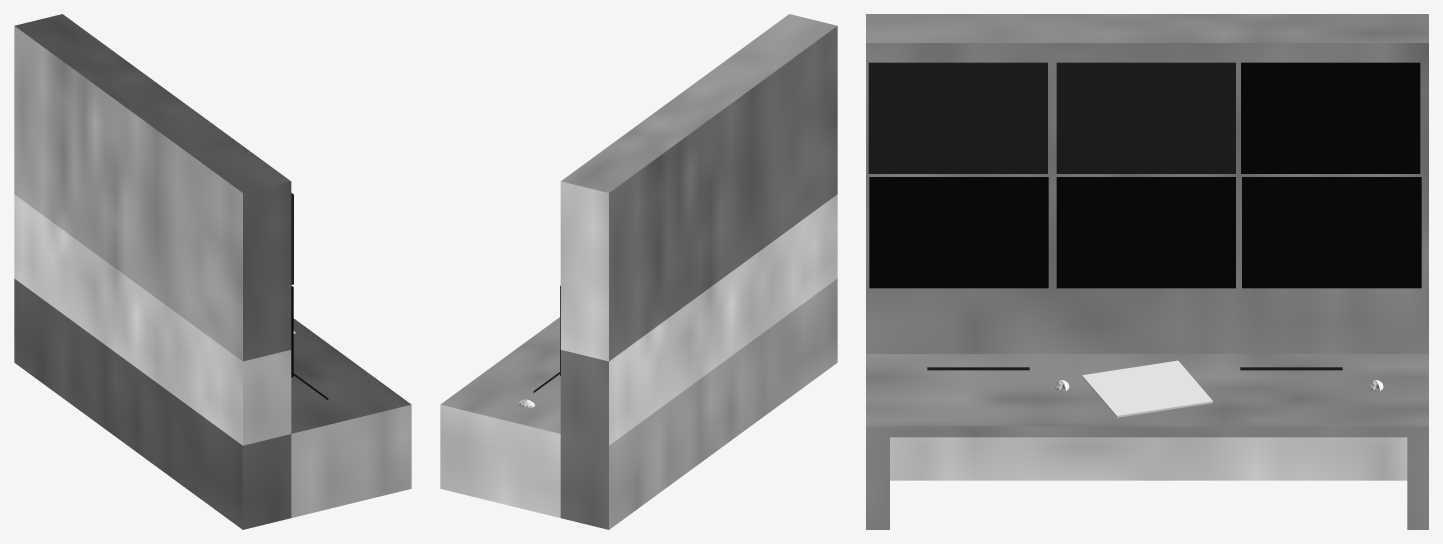
File: salamonitor_colorata.fbx
3 renders of one model, left to right at view 1: azimuth 30°, elevation 25°; view 2: azimuth 150°, elevation 25°; view 3: azimuth 270°, elevation 25°, orthographic. The views are drawn at different scales.
Parts seen in each view (by area): view 1: Generic_2; view 2: Generic_2; view 3: Generic_2, Generic_8, Generic_7, Generic_6, Generic_5, Generic_1, Generic, Cube.
Part boxes in pixels (x1,y1,x2,y2): Generic_2: [14, 14, 411, 529]; Generic_2: [440, 14, 837, 529]; Generic_2: [866, 14, 1428, 529]; Generic_8: [1242, 177, 1421, 288]; Generic_7: [869, 177, 1048, 288]; Generic_6: [1056, 177, 1235, 288]; Generic_5: [1241, 62, 1420, 173]; Generic_1: [868, 62, 1047, 173]; Generic: [1056, 62, 1235, 173]; Cube: [1082, 360, 1212, 417].
Bounding box in the file's own units: 2.34 × 4.47 × 5.5.
Materials: 4 (1 with a texture image).
